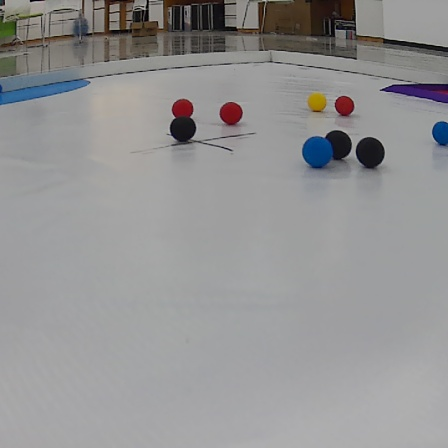black: (163, 115, 202, 143), (355, 136, 387, 169), (328, 130, 352, 158)
blue: (299, 135, 335, 167), (216, 100, 247, 126), (432, 119, 448, 144)
blue_base: (2, 80, 99, 105)
red: (335, 94, 358, 115), (171, 98, 193, 113)
red_aim: (384, 75, 448, 101)
yellow: (306, 92, 327, 112)
